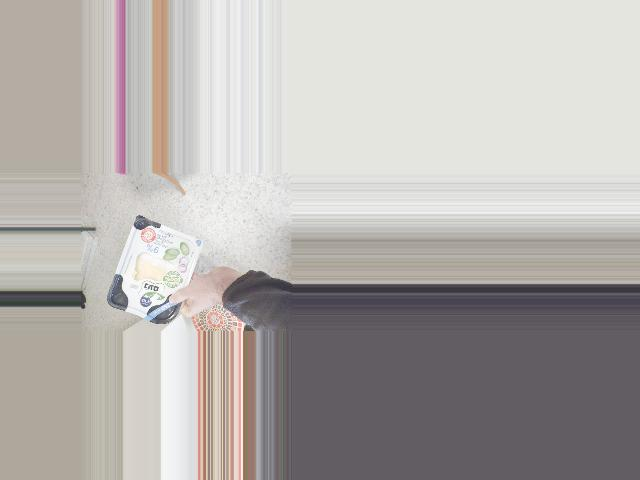cheese: (125, 226, 193, 312)
